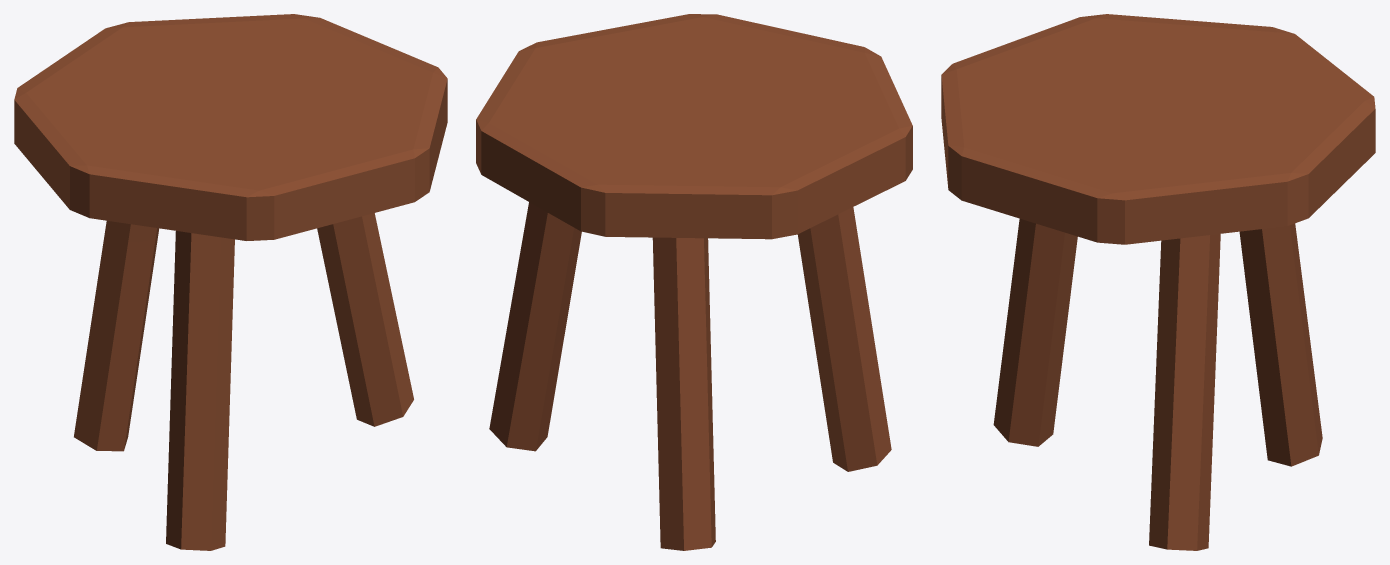
File: Stall.fbx
3 views of the same model, side by side, from view 1: azimuth 30°, elevation 25°; view 2: azimuth 150°, elevation 25°; view 3: azimuth 270°, elevation 25° (orthographic).
Parts seen in each view (by area): view 1: Stall; view 2: Stall; view 3: Stall.
Part boxes in pixels (x1,y1,x2,y2): Stall: [14, 14, 447, 550]; Stall: [476, 14, 912, 550]; Stall: [941, 14, 1375, 550].
Size of the model in its own units: 40.87 by 39.06 by 40.22.
